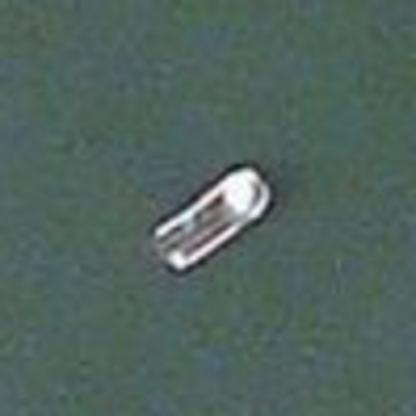ship: (140, 151, 284, 277)
